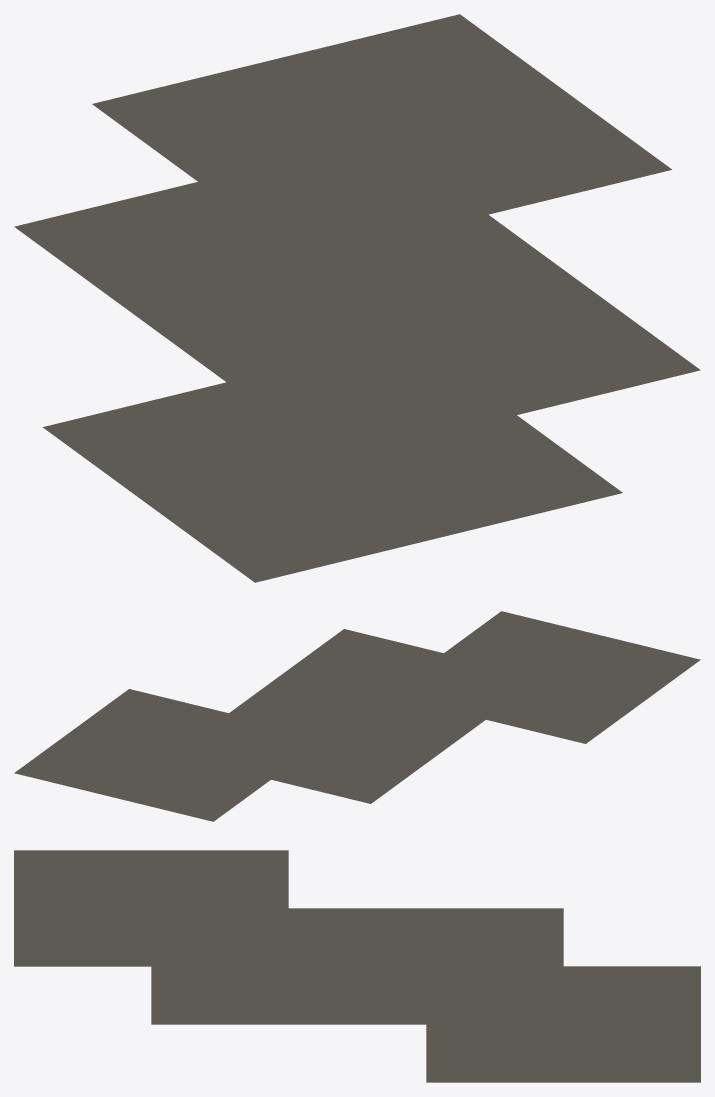
Rendered from Isl-islet4-NoBuildArea.fbx.
3 views of the same model, one above another, from view 1: azimuth 30°, elevation 25°; view 2: azimuth 150°, elevation 25°; view 3: azimuth 270°, elevation 25° (orthographic). The views are drawn at different scales.
Parts seen in each view (by area): view 1: Isl-islet4-NoBuildArea; view 2: Isl-islet4-NoBuildArea; view 3: Isl-islet4-NoBuildArea.
Part boxes in pixels (<box>): Isl-islet4-NoBuildArea: <box>14,14,700,582</box>; Isl-islet4-NoBuildArea: <box>14,611,700,821</box>; Isl-islet4-NoBuildArea: <box>14,850,700,1082</box>.
Size of the model in its own units: 4 by 0 by 5.
